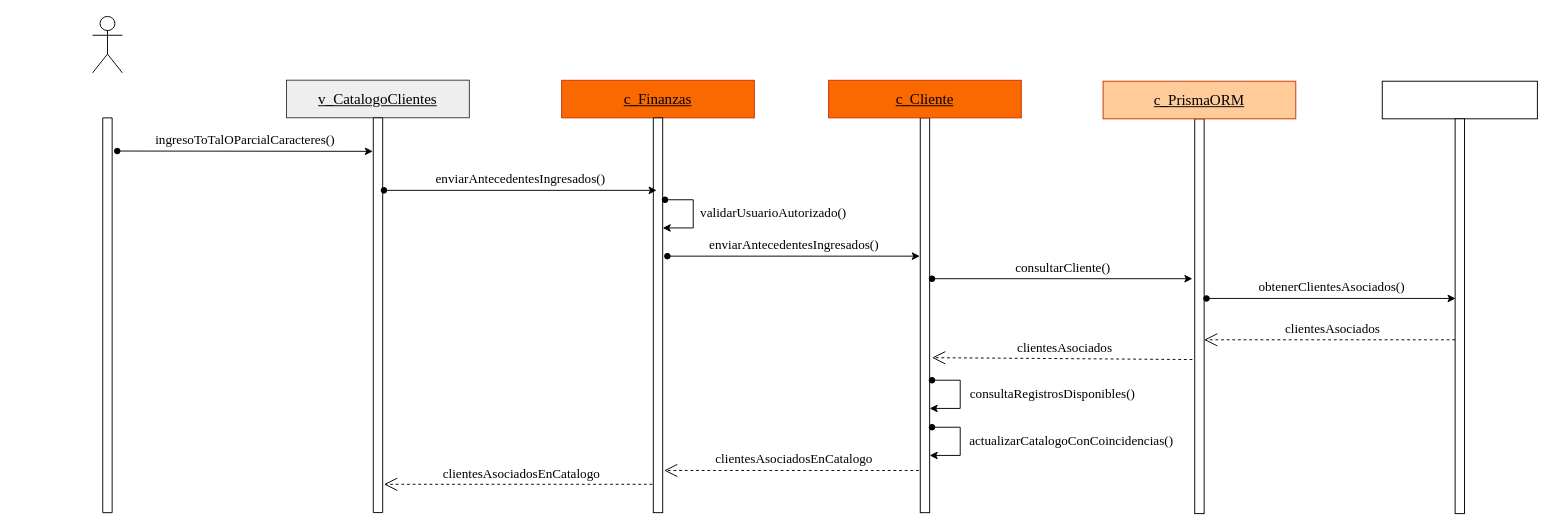
This 1555x530 diagram has some shape labels left out. Each missing label, with the centre of its shape:
"cliente" goes at point (1459, 99).
"Usuario Autorizado Gerencia, Secretaria o Contador" goes at point (107, 44).
